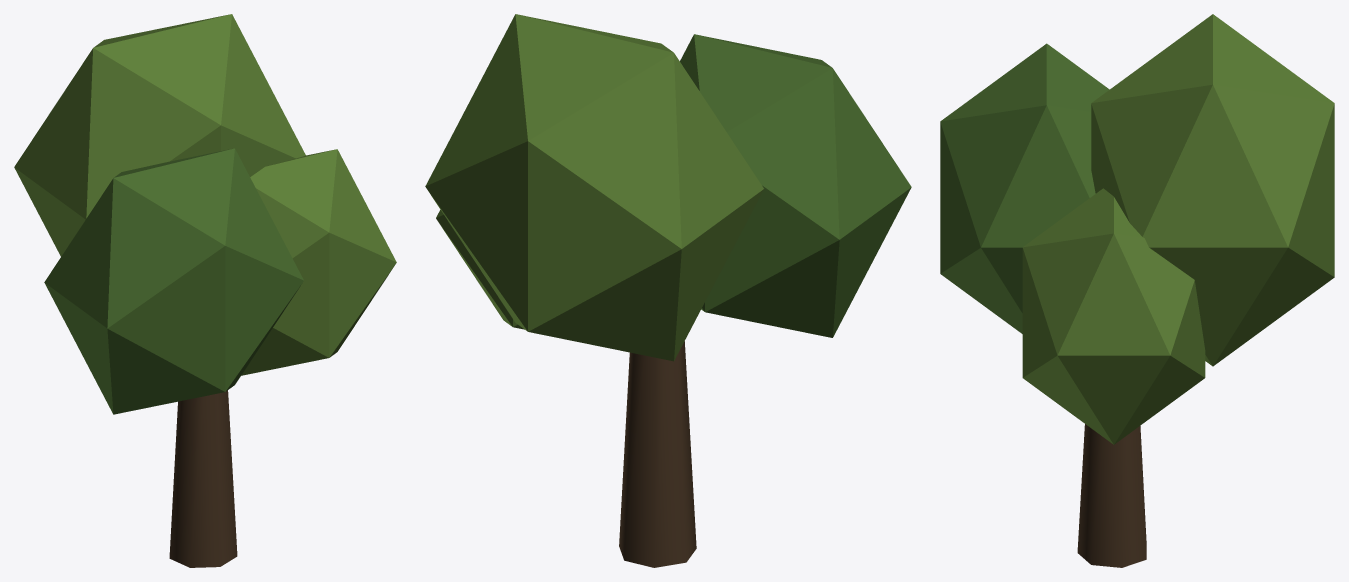
3 views of the same model, side by side, from view 1: azimuth 30°, elevation 25°; view 2: azimuth 150°, elevation 25°; view 3: azimuth 270°, elevation 25° (orthographic). The views are drawn at different scales.
Parts seen in each view (by area): view 1: alpine-body; view 2: alpine-body; view 3: alpine-body.
Part boxes in pixels (x1=…): alpine-body: x1=14, y1=14, x2=396, y2=567; alpine-body: x1=425, y1=14, x2=911, y2=567; alpine-body: x1=940, y1=14, x2=1334, y2=567.
Size of the model in its own units: 5.92 by 8.45 by 5.95.
